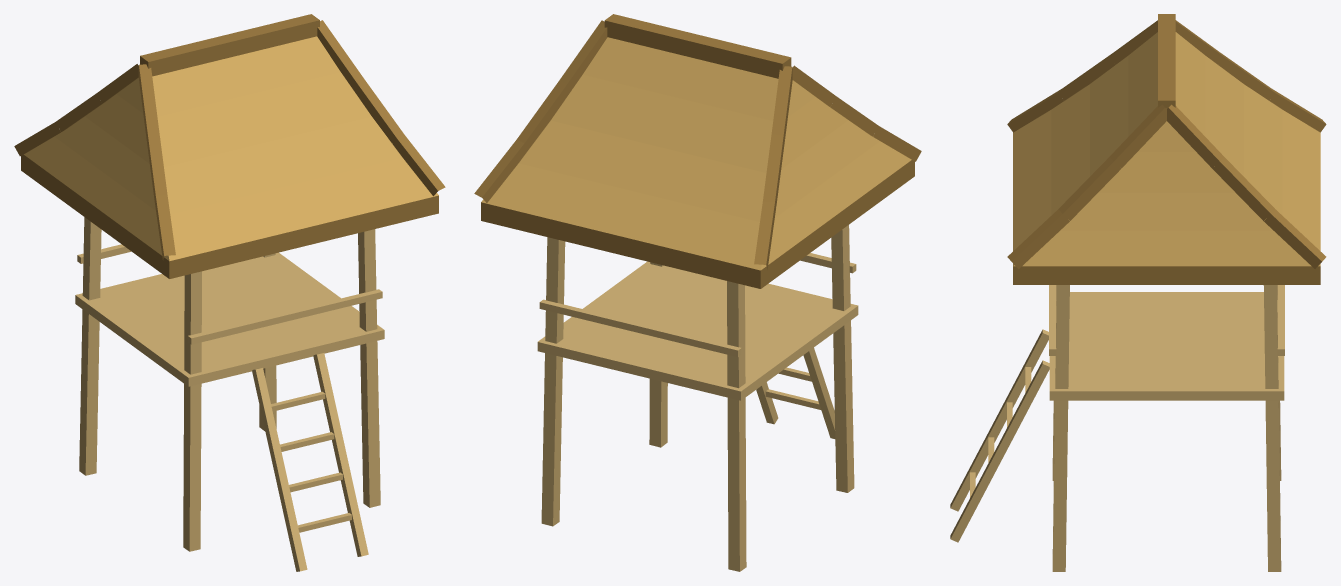
Rendered from viet_field_hut.glb.
The picture shows the model from 3 angles, left to right: view 1: azimuth 30°, elevation 25°; view 2: azimuth 150°, elevation 25°; view 3: azimuth 270°, elevation 25°; orthographic projection. The views are drawn at different scales.
Visible parts, largest first — view 1: viet_field_hut; view 2: viet_field_hut; view 3: viet_field_hut.
Part boxes in pixels (x1,y1,x2,y2): viet_field_hut: (14, 14, 445, 571); viet_field_hut: (474, 14, 921, 571); viet_field_hut: (950, 14, 1326, 571).
Size of the model in its own units: 0.6521 by 1 by 0.7285.
